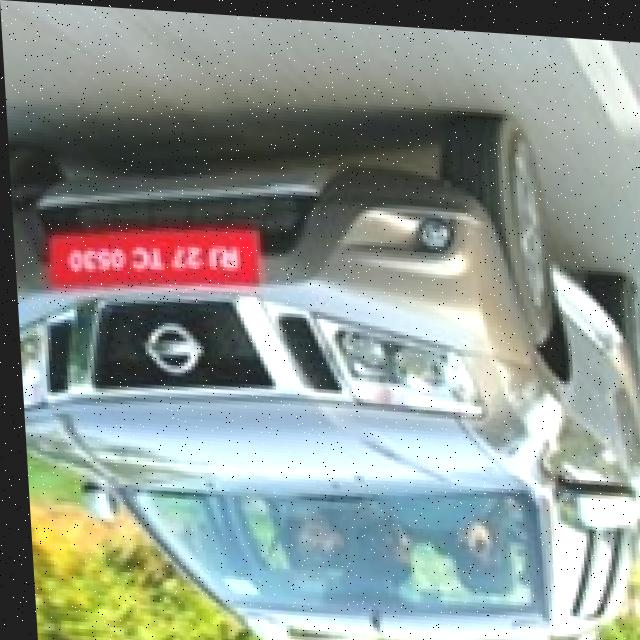plate: (36, 210, 262, 307)
